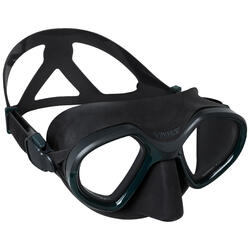maske: (58, 111, 247, 226)
